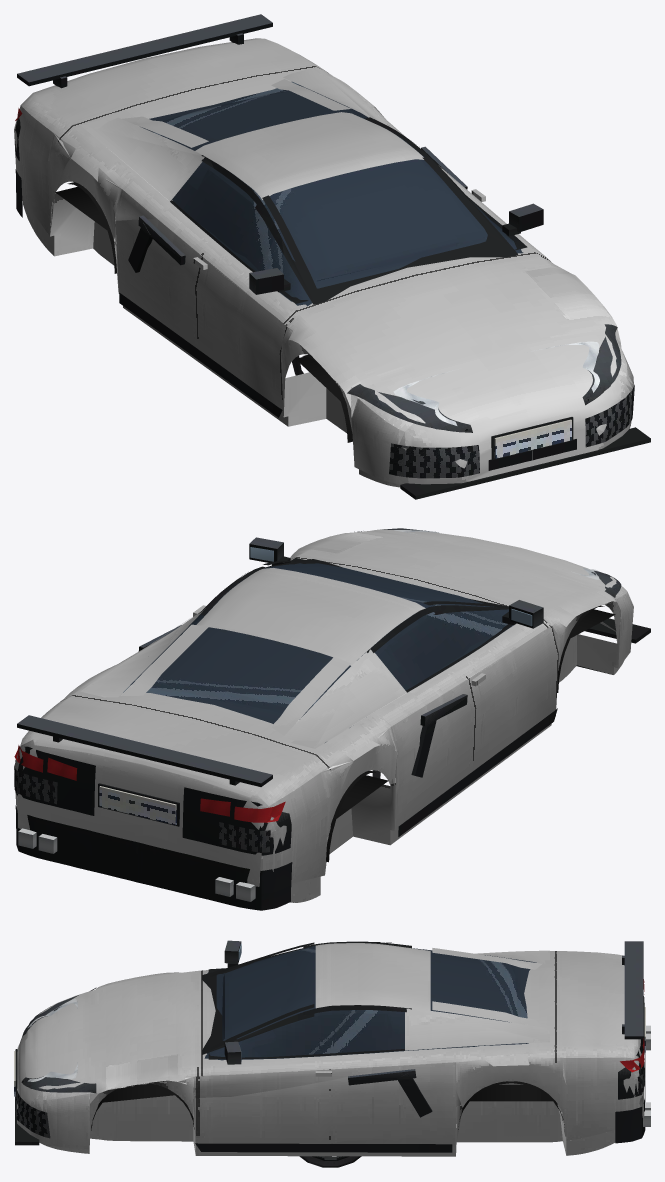
File: corsair24.glb
3 renders of one model, top to bottom at view 1: azimuth 30°, elevation 25°; view 2: azimuth 150°, elevation 25°; view 3: azimuth 270°, elevation 25°, orthographic. The views are drawn at different scales.
Parts seen in each view (by area): view 1: Paint, Body, Paint_far, Body_far; view 2: Paint, Body, Paint_far, Body_far; view 3: Paint, Body, Paint_far, Body_far, Wheel.
Part boxes in pixels (left/top/right/bottom): Paint: left=14, top=38, right=633, bottom=487; Body: left=15, top=14, right=650, bottom=499; Paint_far: left=50, top=68, right=563, bottom=431; Body_far: left=18, top=14, right=647, bottom=499; Paint: left=14, top=529, right=633, bottom=902; Body: left=14, top=528, right=650, bottom=910; Paint_far: left=80, top=555, right=620, bottom=886; Body_far: left=19, top=530, right=649, bottom=901; Paint: left=17, top=943, right=644, bottom=1156; Body: left=14, top=940, right=650, bottom=1152; Paint_far: left=89, top=950, right=643, bottom=1156; Body_far: left=14, top=940, right=650, bottom=1144; Wheel: left=299, top=1156, right=361, bottom=1167.
Size of the model in its own units: 1.95 by 1.57 by 4.7.
Materials: 3 (3 with a texture image).
